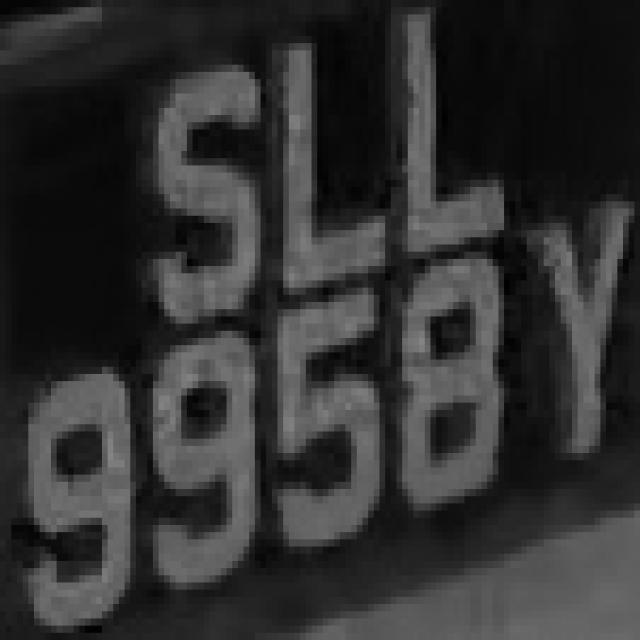5: (272, 302, 402, 554)
8: (391, 266, 510, 532)
9: (136, 324, 266, 604), (21, 372, 137, 640), (0, 4, 1, 8)
L: (380, 14, 521, 266), (272, 29, 396, 280)
S: (125, 43, 266, 317)
Y: (528, 204, 640, 460), (4, 2, 6, 6)
